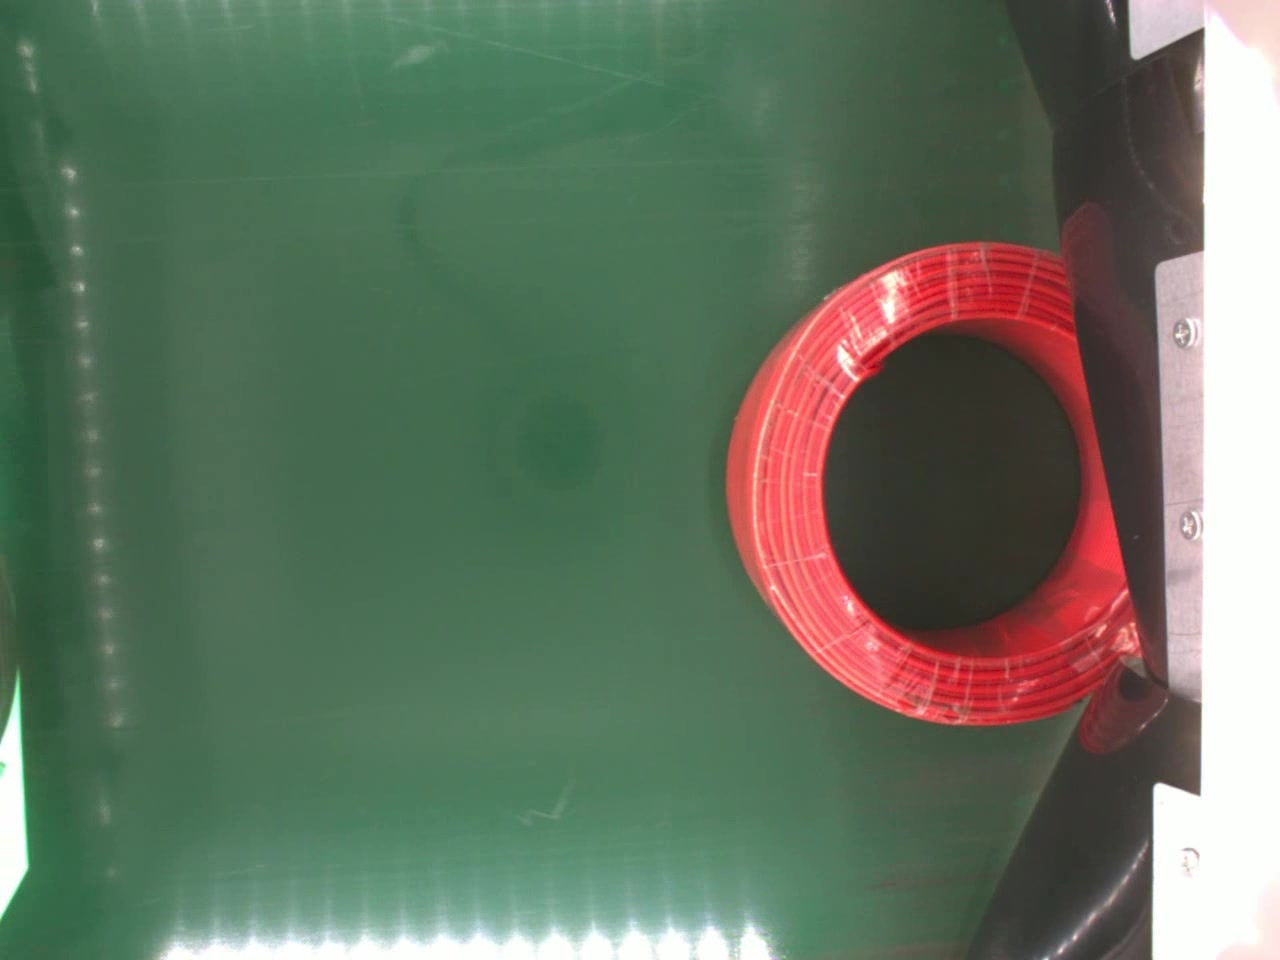red: (723, 240, 1144, 735)
